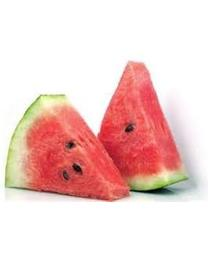watermelon: (5, 61, 189, 200)
